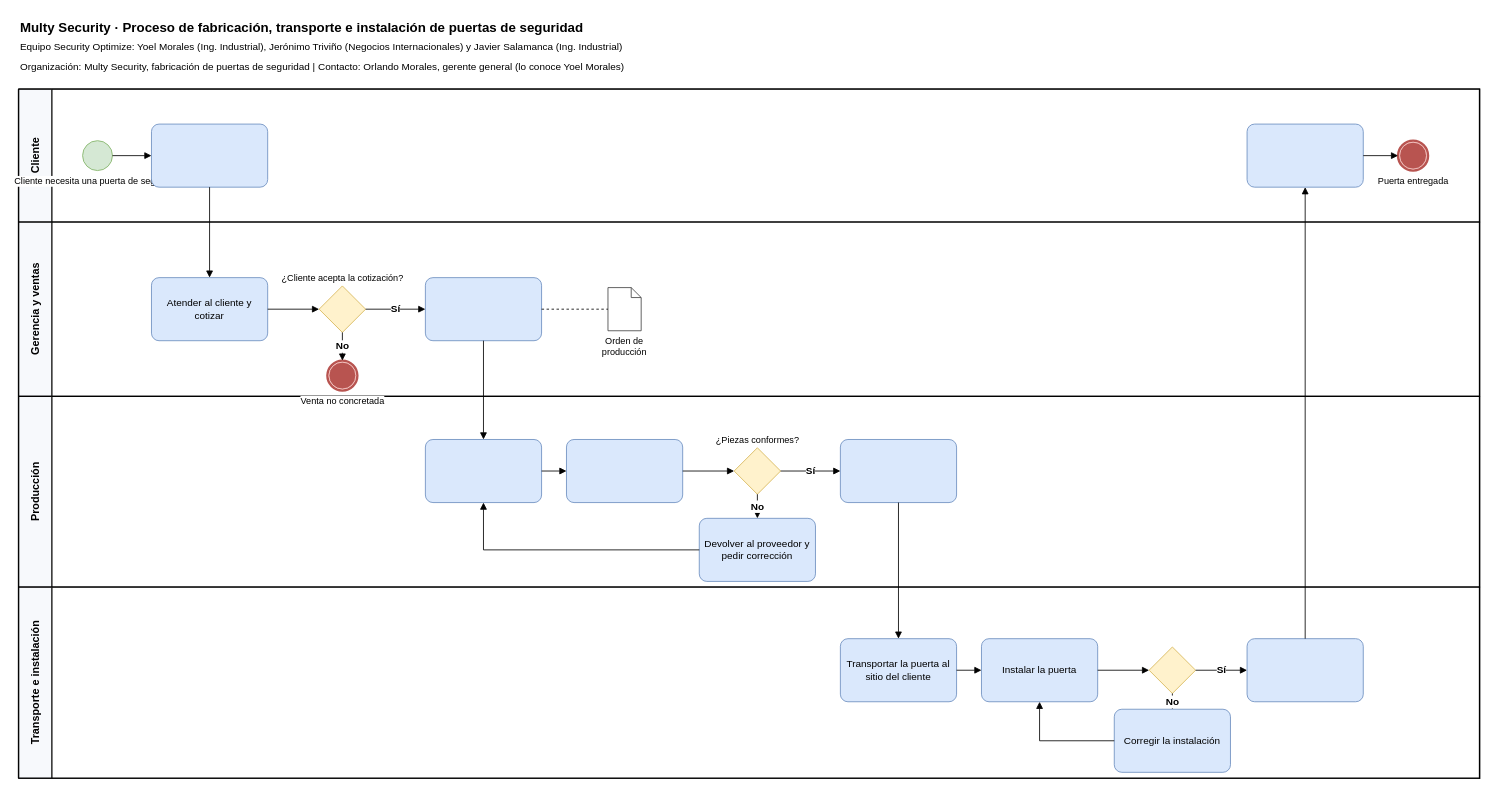
Image size: 1495x793. Some labels were removed from this diagram. The centre of each missing label's shape, as x and y in pixels:
"Contactar a Multy Security" goes at (x=209, y=155).
"Entregar y firmar acta de entrega" goes at (x=1304, y=670).
"Fabricar la puerta (corte, soldadura y acabado)" goes at (x=898, y=471).
"Generar la orden de producción" goes at (x=483, y=309).
"Recibir e inspeccionar las piezas" goes at (x=624, y=471).
"Recibir y aprobar la entrega" goes at (x=1304, y=155).
"Solicitar piezas metálicas al proveedor" goes at (x=483, y=471).
"¿Instalación conforme?" goes at (x=1172, y=669).
